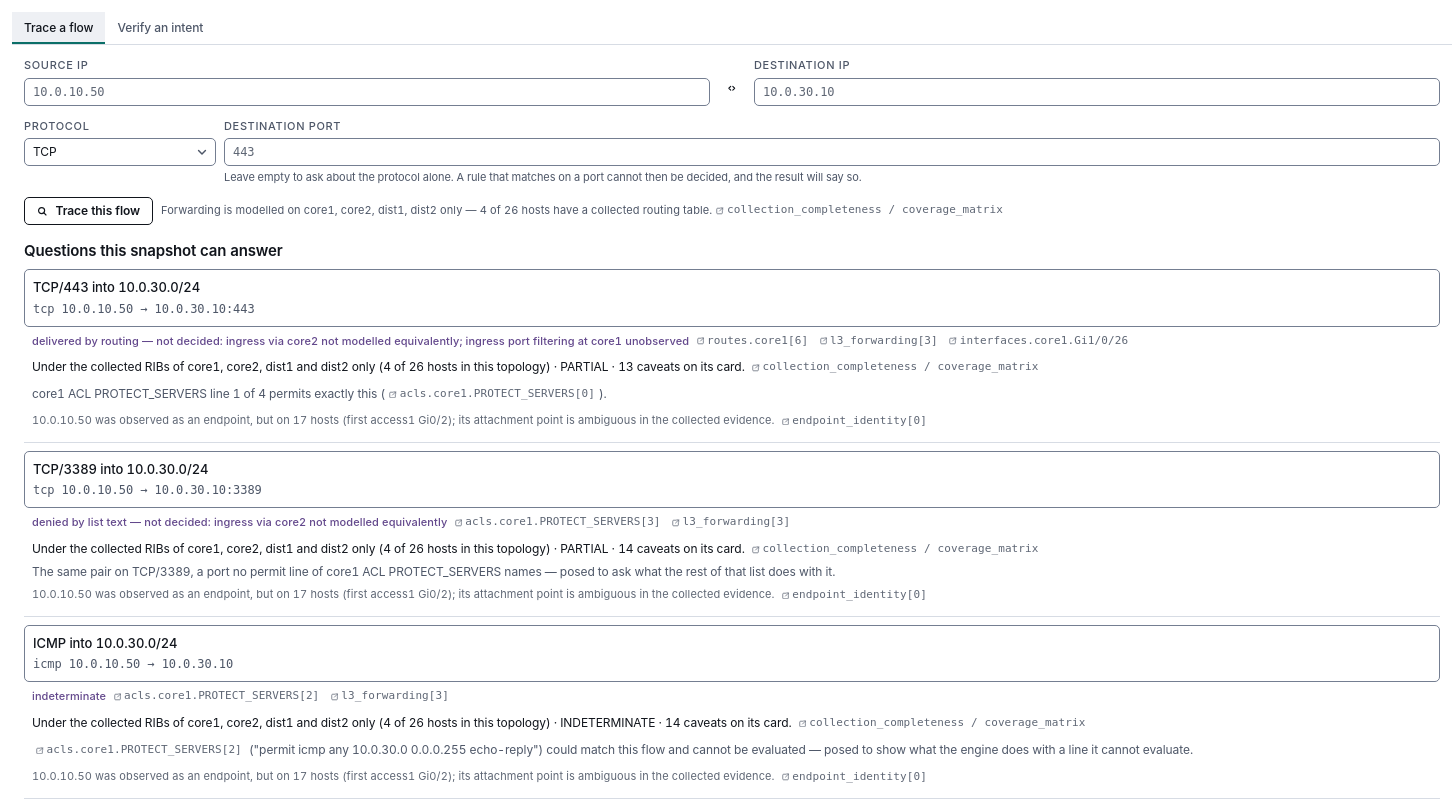
Test: PathTrace — the chunked intent search › cancels without offering a verdict from a partial search
Click the tab "Verify an intent" at (160, 28), box [105,12,215,44]
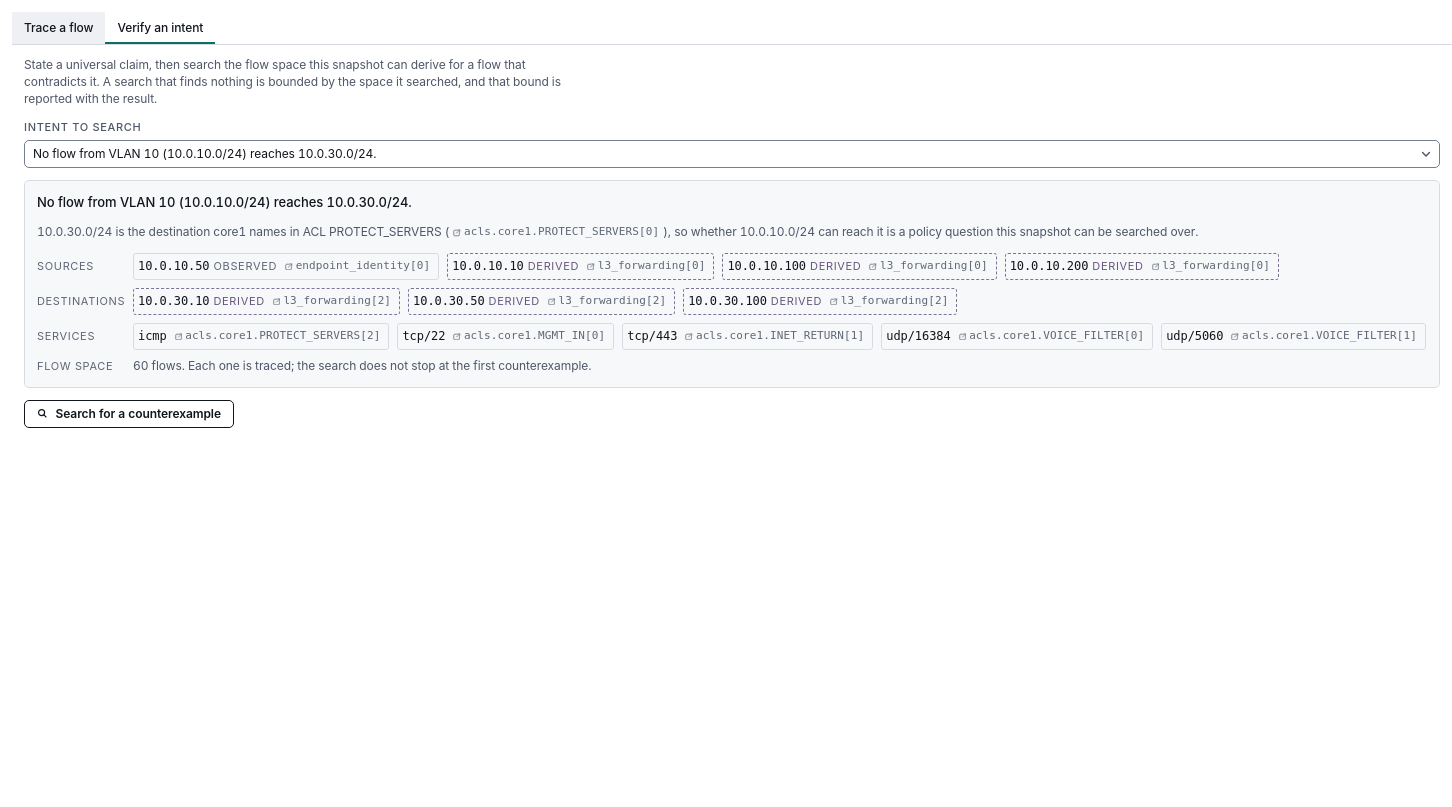
Click the button "Search for a counterexample" at (129, 414), box [24,400,234,428]
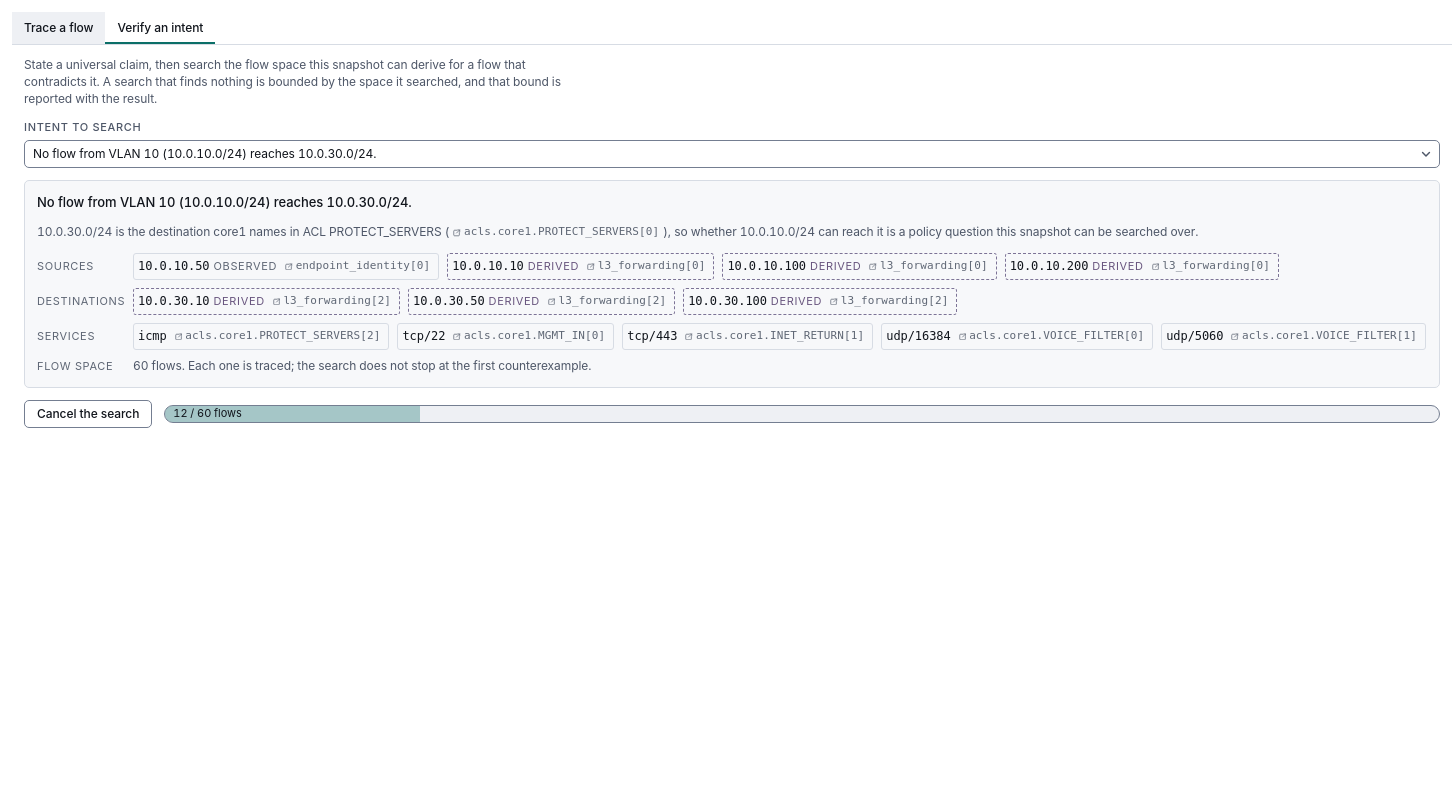
Click the button "Cancel the search" at (88, 414), box [24,400,152,428]
Wait 1000 ms
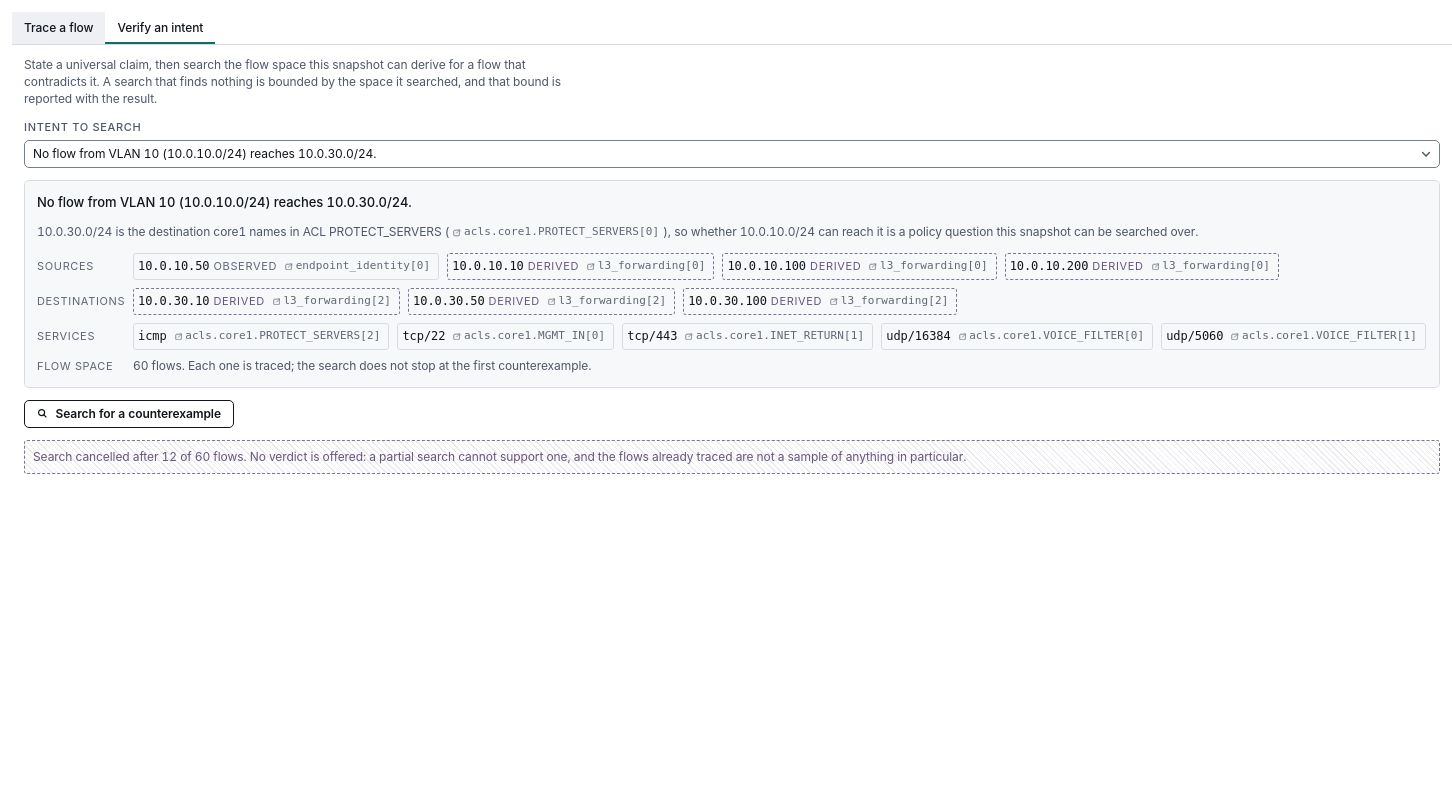
Now the text "No verdict is offered" is shown, box [33,449,966,464]
